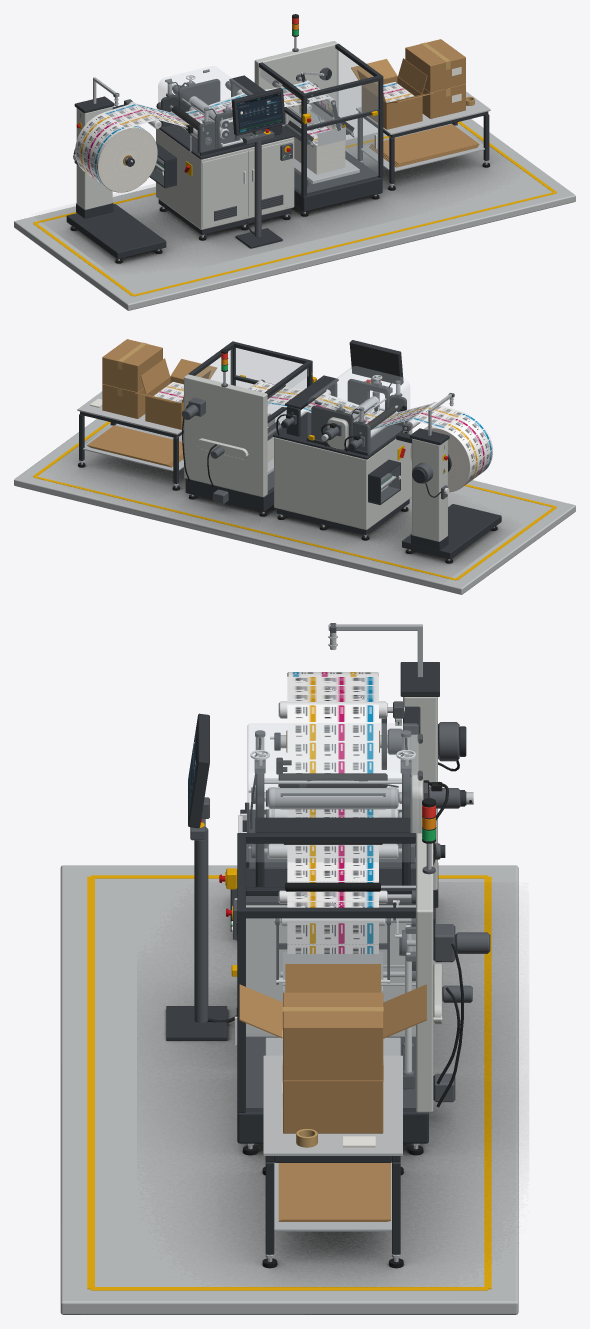
File: paravent.glb
3 renders of one model, top to bottom at view 1: azimuth 30°, elevation 25°; view 2: azimuth 150°, elevation 25°; view 3: azimuth 270°, elevation 25°, orthographic. The views are drawn at different scales.
Parts seen in each view (by area): view 1: socle, table_carton_emballage, plieur_polycarbonate, bati_tole_gris_clair, perf_capot, plieur_tole_anthracite, rotatif_1, derouleur_tole_anthracite, bati_tole_anthracite, plieur_tole_gris_clair, bande, pile_paravent (+13 smaller); view 2: socle, bati_tole_gris_clair, plieur_tole_gris_clair, table_carton_emballage, perf_capot, derouleur_tole_anthracite, plieur_polycarbonate, bati_tole_anthracite, der_colonne, plieur_tole_anthracite, rotatif_1, bande (+13 smaller); view 3: socle, table_carton_emballage, bande, perf_capot, plieur_polycarbonate, plieur_tole_anthracite, table_plateau, plieur_tole_gris_clair, bati_tole_gris_clair, pupitre_tole_anthracite, sortie_tole_anthracite, pupitre_graphite (+15 smaller).
Part boxes in pixels (x1,y1,x2,y2): socle: [14, 119, 575, 310]; table_carton_emballage: [351, 39, 479, 167]; plieur_polycarbonate: [260, 50, 378, 192]; bati_tole_gris_clair: [156, 129, 294, 229]; perf_capot: [158, 66, 253, 154]; plieur_tole_anthracite: [259, 43, 383, 211]; rotatif_1: [75, 113, 157, 192]; derouleur_tole_anthracite: [66, 96, 166, 259]; bati_tole_anthracite: [149, 121, 295, 235]; plieur_tole_gris_clair: [254, 41, 338, 126]; bande: [103, 81, 336, 130]; pile_paravent: [294, 122, 345, 174]; socle: [14, 419, 575, 594]; bati_tole_gris_clair: [274, 429, 412, 529]; plieur_tole_gris_clair: [184, 374, 267, 497]; table_carton_emballage: [87, 339, 216, 467]; perf_capot: [308, 366, 409, 454]; derouleur_tole_anthracite: [396, 428, 501, 559]; plieur_polycarbonate: [196, 348, 308, 490]; bati_tole_anthracite: [273, 412, 409, 534]; der_colonne: [412, 438, 447, 541]; plieur_tole_anthracite: [185, 341, 312, 511]; rotatif_1: [410, 413, 492, 492]; bande: [249, 381, 464, 429]; socle: [60, 865, 518, 1314]; table_carton_emballage: [239, 964, 426, 1221]; bande: [287, 676, 378, 953]; perf_capot: [247, 723, 418, 868]; plieur_polycarbonate: [246, 843, 415, 1107]; plieur_tole_anthracite: [237, 833, 428, 1143]; table_plateau: [263, 1055, 402, 1155]; plieur_tole_gris_clair: [416, 833, 442, 1112]; bati_tole_gris_clair: [246, 905, 415, 1036]; pupitre_tole_anthracite: [166, 713, 227, 1040]; sortie_tole_anthracite: [255, 817, 445, 886]; pupitre_graphite: [190, 797, 209, 1023].
Bounding box in the file's own units: 4.75 × 1.67 × 2.15.
Materials: 32 (10 with a texture image).
